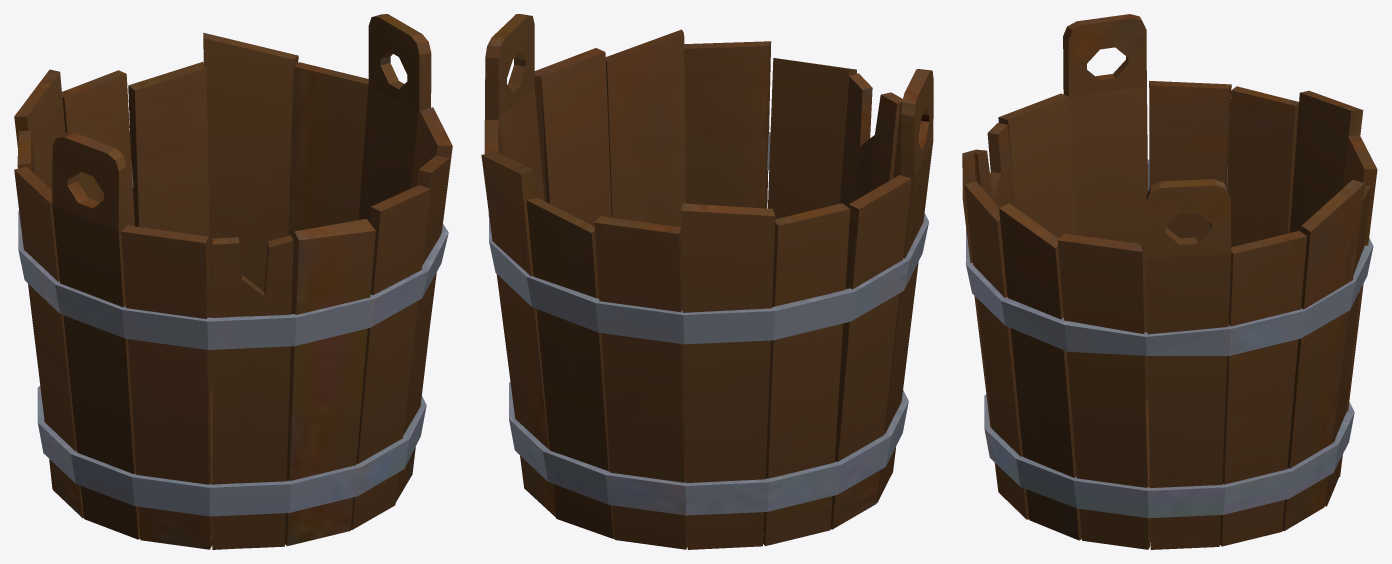
The model's file is bucket.glb.
3 renders of one model, left to right at view 1: azimuth 30°, elevation 25°; view 2: azimuth 150°, elevation 25°; view 3: azimuth 270°, elevation 25°, orthographic. The views are drawn at different scales.
Visible parts, largest first — view 1: bucket; view 2: bucket; view 3: bucket.
Boxes of the visible parts, x1,y1,x2,y2 form: bucket: (14,14,452,549); bucket: (481,14,933,549); bucket: (962,14,1377,549).
Size of the model in its own units: 0.4006 by 0.4 by 0.3979.
Materials: 1 (1 with a texture image).
